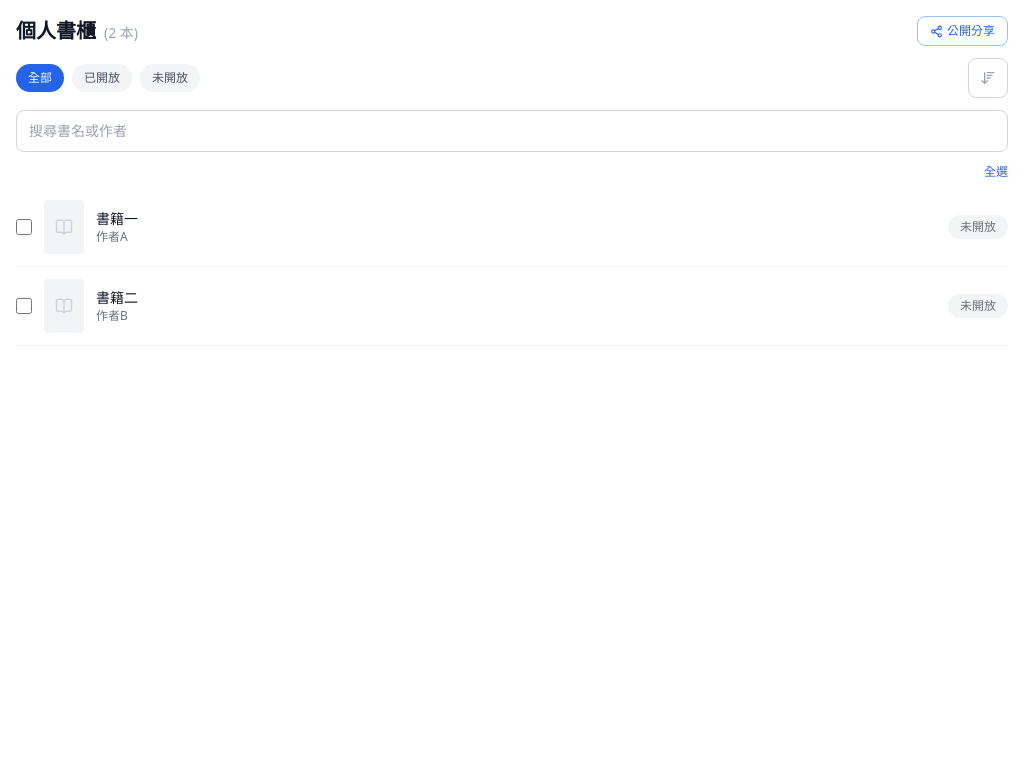
Scenario: PersonalShelfPage › selecting a book shows floating action bar with count
Check: the text "書籍一" is shown, box [96,209,138,229]
Click the checkbox named "選取 書籍一".
click(24, 227)  # box [16,219,32,235]
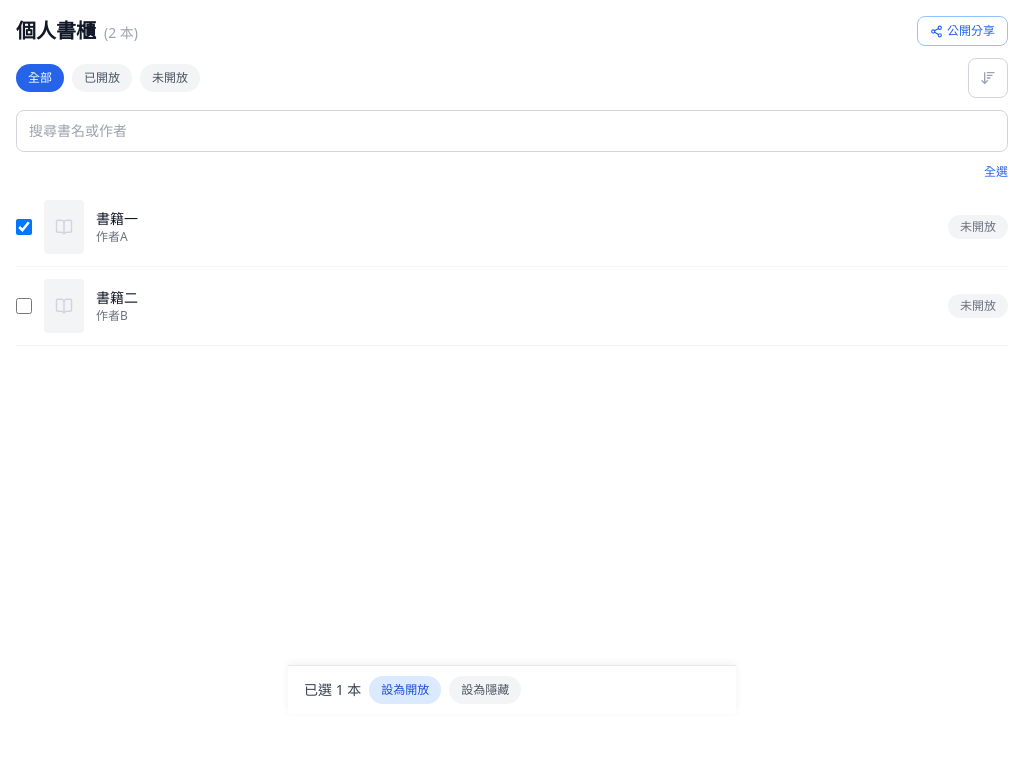
Check: the element showing "已選 1 本 設為開放 設為隱藏" is shown, box [288,665,736,714]
Check: the text "已選 1 本" is shown, box [304,680,361,700]
Check: the button "設為開放" is shown, box [369,676,441,704]
